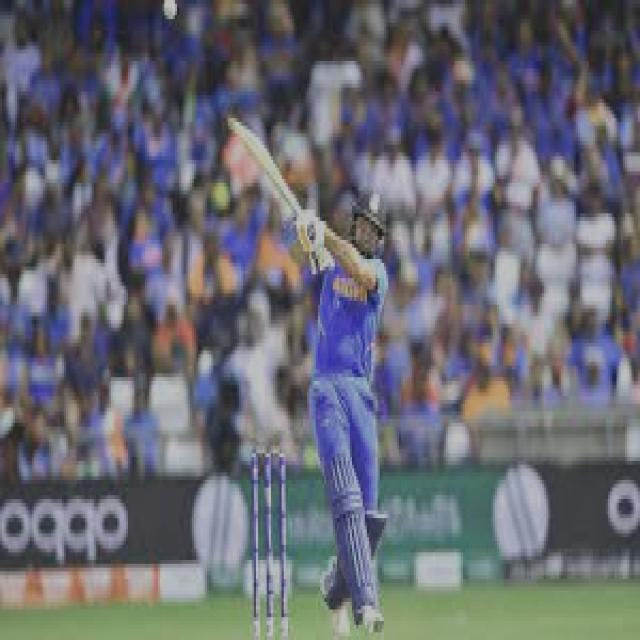toe: (222, 112, 246, 137)
